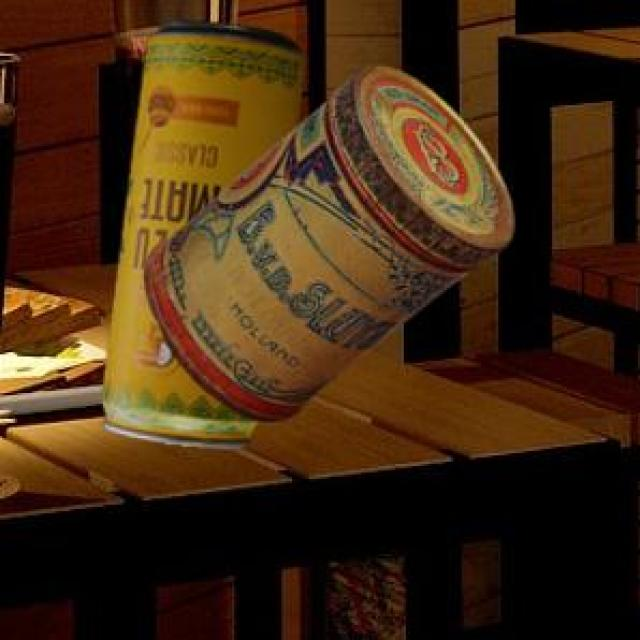logam: (141, 63, 510, 418), (100, 18, 302, 446)
